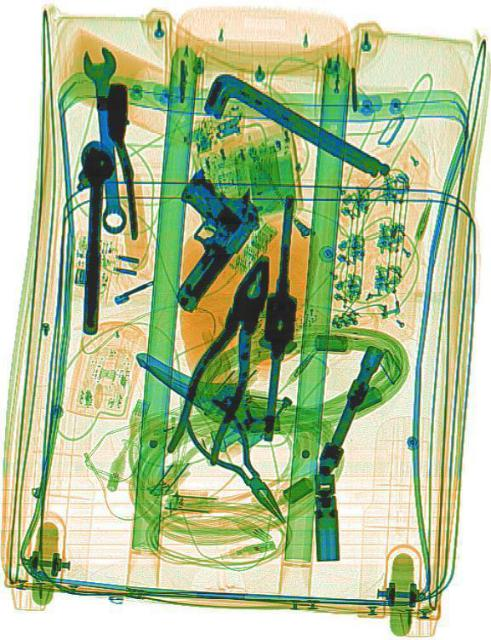Gun: (130, 149, 269, 315)
Pliers: (162, 239, 291, 473), (179, 387, 300, 539)
Wrench: (81, 44, 135, 236)
